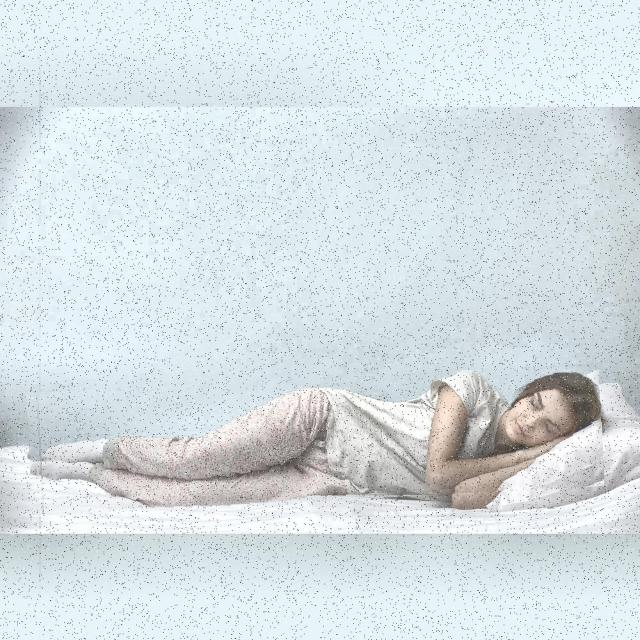Not_Supine: (30, 369, 601, 506)
